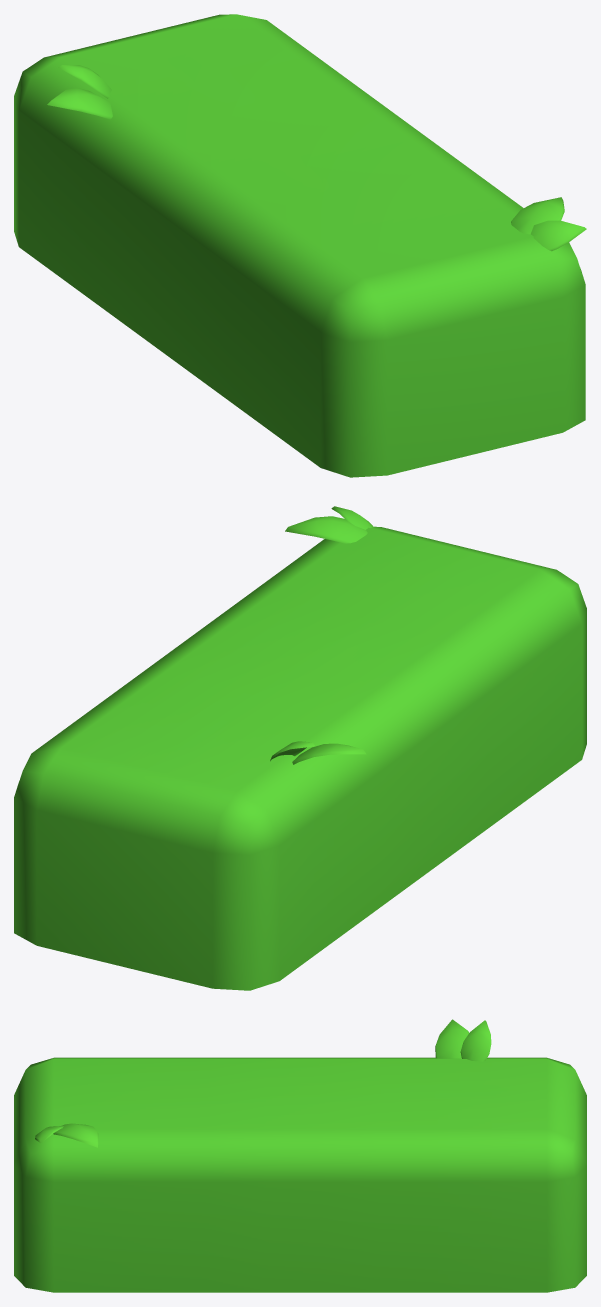
Rendered from I_Tree_Fence.fbx.
3 renders of one model, top to bottom at view 1: azimuth 30°, elevation 25°; view 2: azimuth 150°, elevation 25°; view 3: azimuth 270°, elevation 25°, orthographic. The views are drawn at different scales.
Visible parts, largest first — view 1: I_Tree_Fence; view 2: I_Tree_Fence; view 3: I_Tree_Fence.
Boxes of the visible parts, x1,y1,x2,y2 form: I_Tree_Fence: [14, 14, 586, 477]; I_Tree_Fence: [14, 506, 586, 990]; I_Tree_Fence: [14, 1019, 586, 1292].
Bounding box in the file's own units: 172 × 115 × 350.
